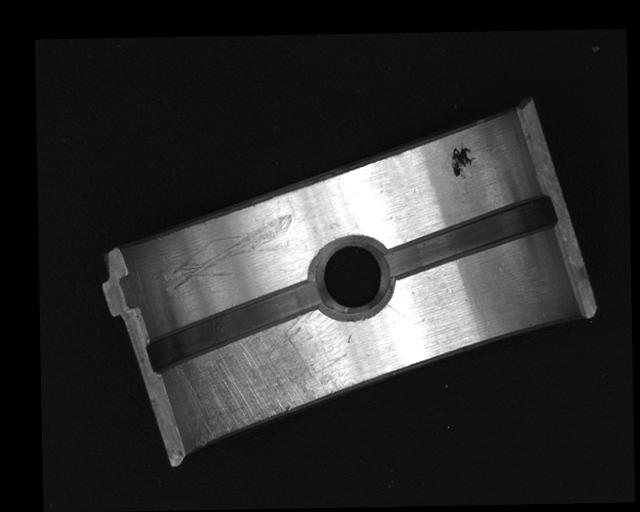blot: (448, 143, 477, 180)
gap: (145, 278, 324, 375), (383, 192, 557, 277)
hole: (316, 237, 390, 312)
nick: (165, 213, 296, 292)
scratch: (178, 304, 350, 448)
